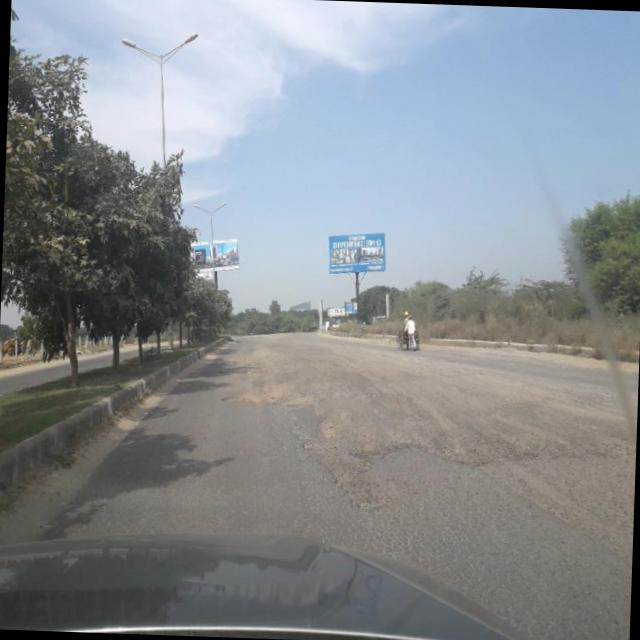crack: (281, 438, 611, 640)
pothole: (220, 356, 628, 517)
